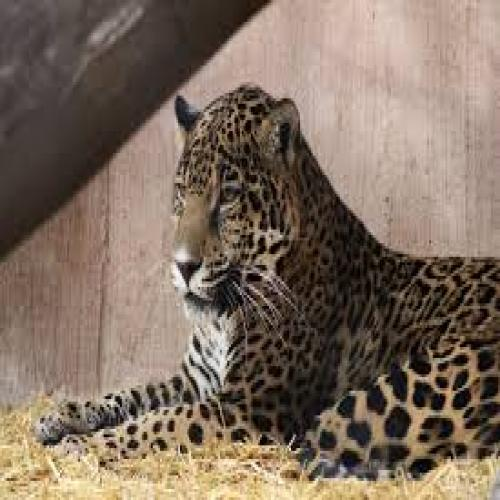jaguar_not-endangered: (173, 85, 388, 469)
